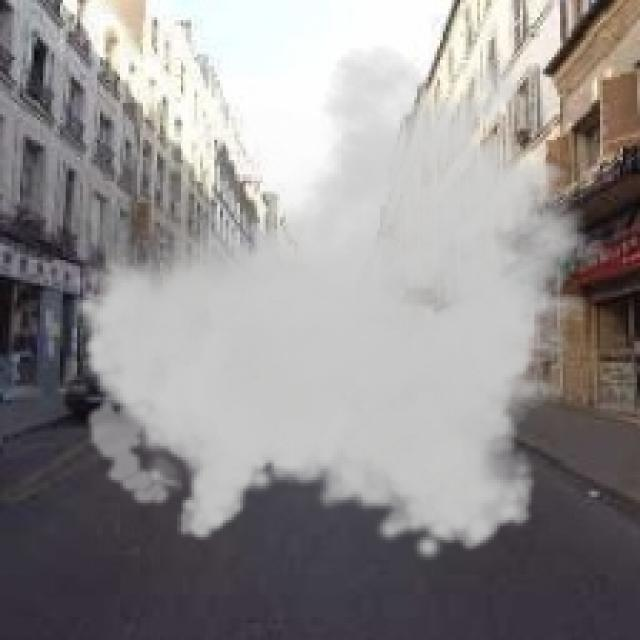smoke: (71, 43, 632, 563)
